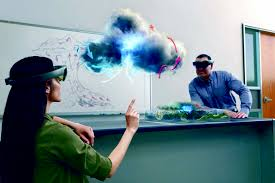hololens: (4, 62, 69, 92), (191, 58, 214, 70)
